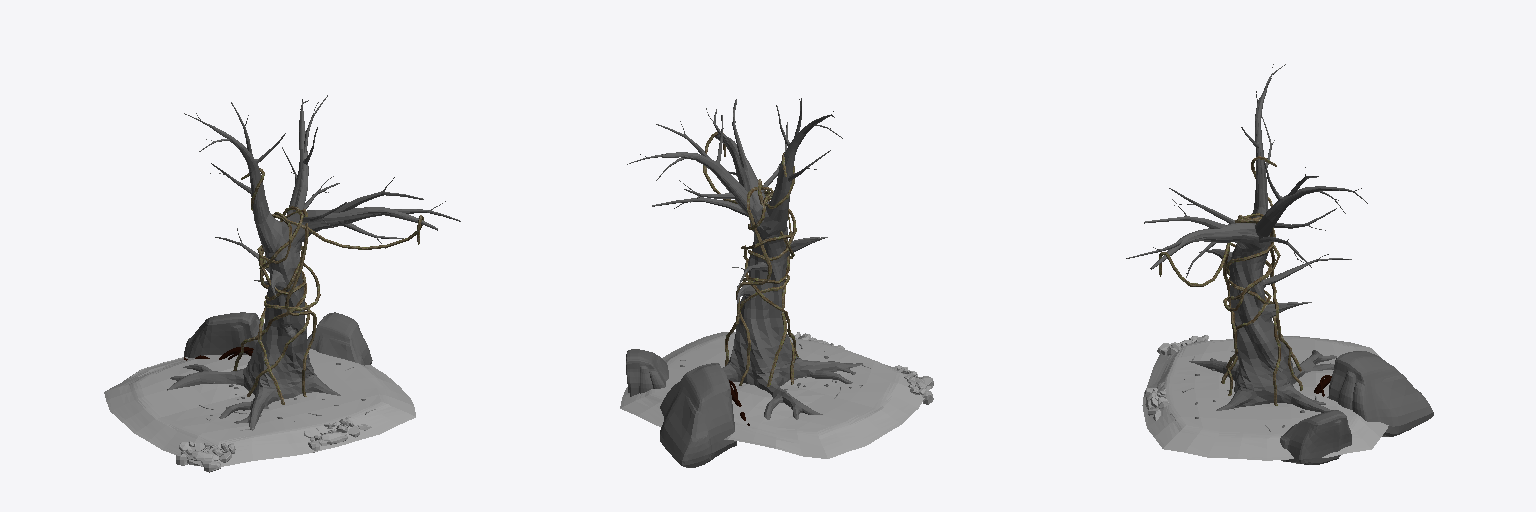
3 renders of one model, left to right at view 1: azimuth 30°, elevation 25°; view 2: azimuth 150°, elevation 25°; view 3: azimuth 270°, elevation 25°, orthographic.
Parts seen in each view (by area): view 1: Plane, oak_old1_004_008, tree_old_branches_003, rock_big1, rock_big1_001, rockpile; view 2: Plane, oak_old1_004_008, rock_big1, tree_old_branches_003, rock_big1_001, rockpile; view 3: Plane, oak_old1_004_008, rock_big1, tree_old_branches_003, rock_big1_001, rockpile.
Boxes of the visible parts, <box> form: Plane: <box>104,349,415,466</box>; oak_old1_004_008: <box>167,95,460,430</box>; tree_old_branches_003: <box>233,168,423,404</box>; rock_big1: <box>184,312,264,357</box>; rock_big1_001: <box>307,312,372,365</box>; rockpile: <box>176,416,371,472</box>; Plane: <box>620,332,930,458</box>; oak_old1_004_008: <box>627,98,862,419</box>; rock_big1: <box>660,363,736,467</box>; tree_old_branches_003: <box>703,132,798,386</box>; rock_big1_001: <box>626,349,668,396</box>; rockpile: <box>788,332,933,404</box>; Plane: <box>1142,336,1388,460</box>; oak_old1_004_008: <box>1126,64,1367,412</box>; rock_big1: <box>1329,351,1433,436</box>; tree_old_branches_003: <box>1159,156,1302,405</box>; rock_big1_001: <box>1280,410,1351,464</box>; rockpile: <box>1144,335,1208,420</box>.
Bounding box in the file's own units: 3.45 × 4.23 × 3.58.
Materials: 8 (1 with a texture image).